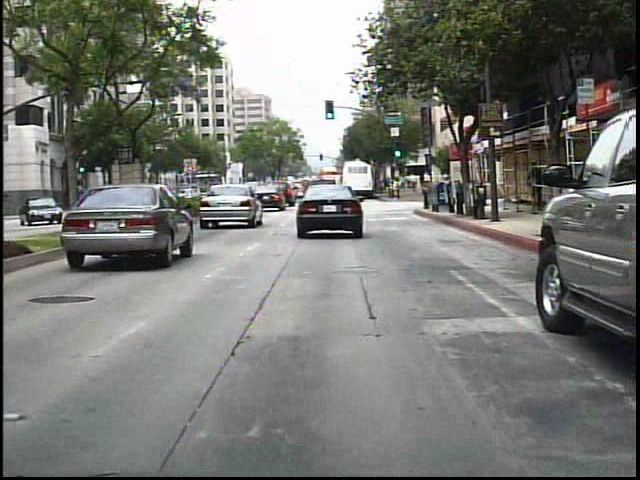person: (522, 154, 548, 217)
